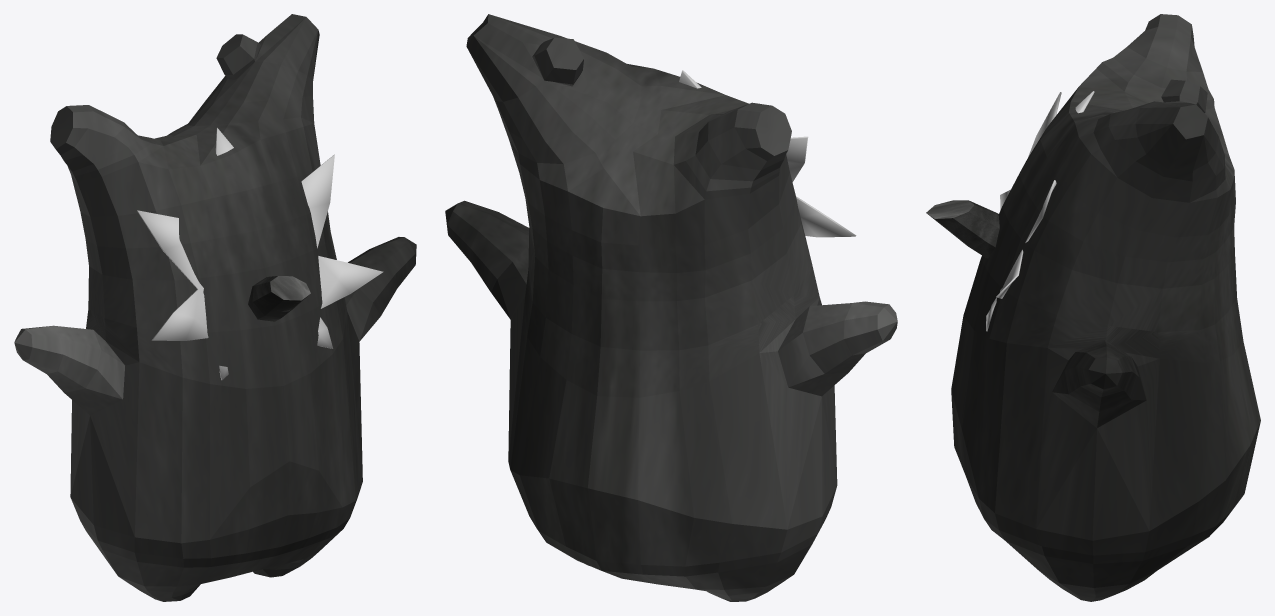
File: frame_0029.obj
3 views of the same model, side by side, from view 1: azimuth 30°, elevation 25°; view 2: azimuth 150°, elevation 25°; view 3: azimuth 270°, elevation 25° (orthographic). The views are drawn at different scales.
Parts seen in each view (by area): view 1: korok, leaf, nose; view 2: korok, leaf; view 3: korok, nose, leaf.
Boxes of the visible parts, box(x1,y1,x2,y2) form: korok: box(14, 14, 416, 601); leaf: box(137, 128, 383, 380); nose: box(248, 276, 310, 321); korok: box(445, 14, 897, 601); leaf: box(679, 70, 856, 237); korok: box(951, 14, 1260, 601); nose: box(926, 200, 999, 258); leaf: box(986, 91, 1094, 331).
Size of the model in its own units: 1.82 by 2.2 by 1.26.
